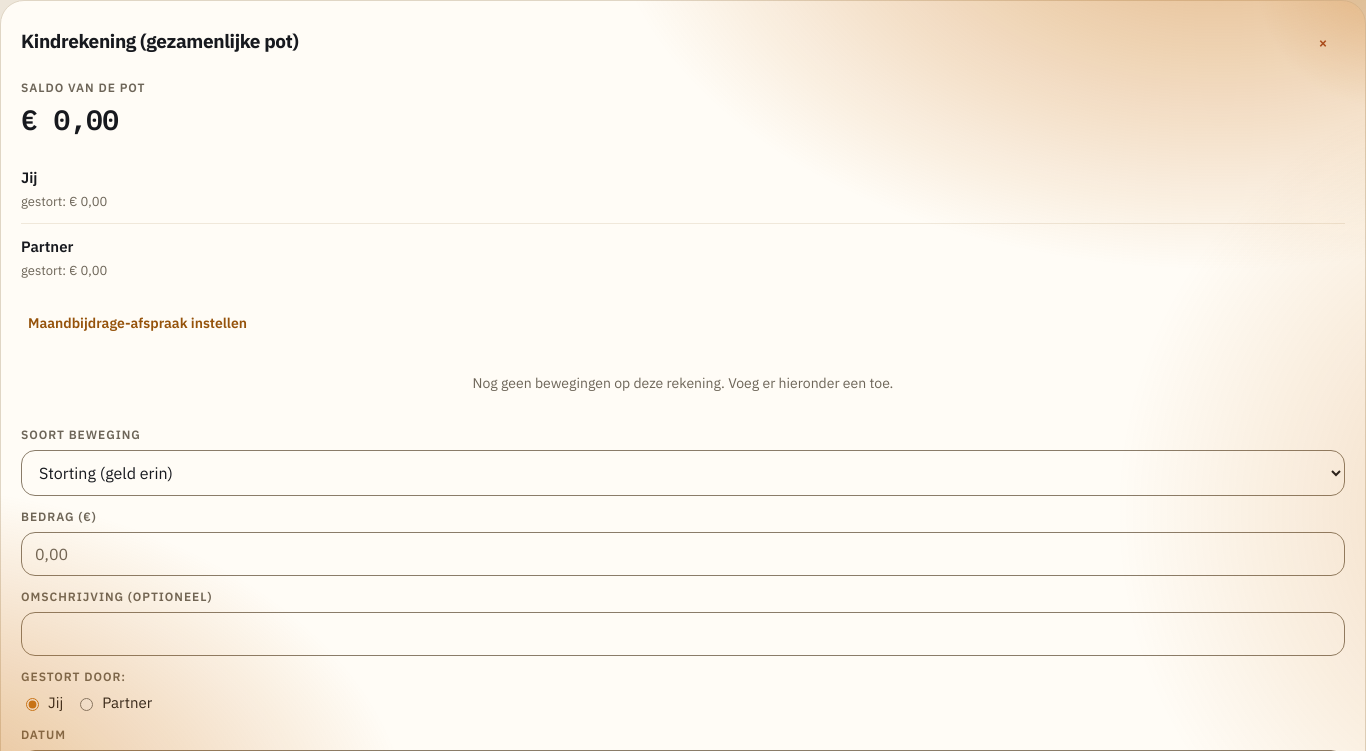
Test: KindrekeningSectie — de indexcijfers › vraagt allebei de cijfers wanneer je er maar één invult
Click the button "Maandbijdrage-afspraak instellen": (137, 323) left=21, top=306, right=254, bottom=341
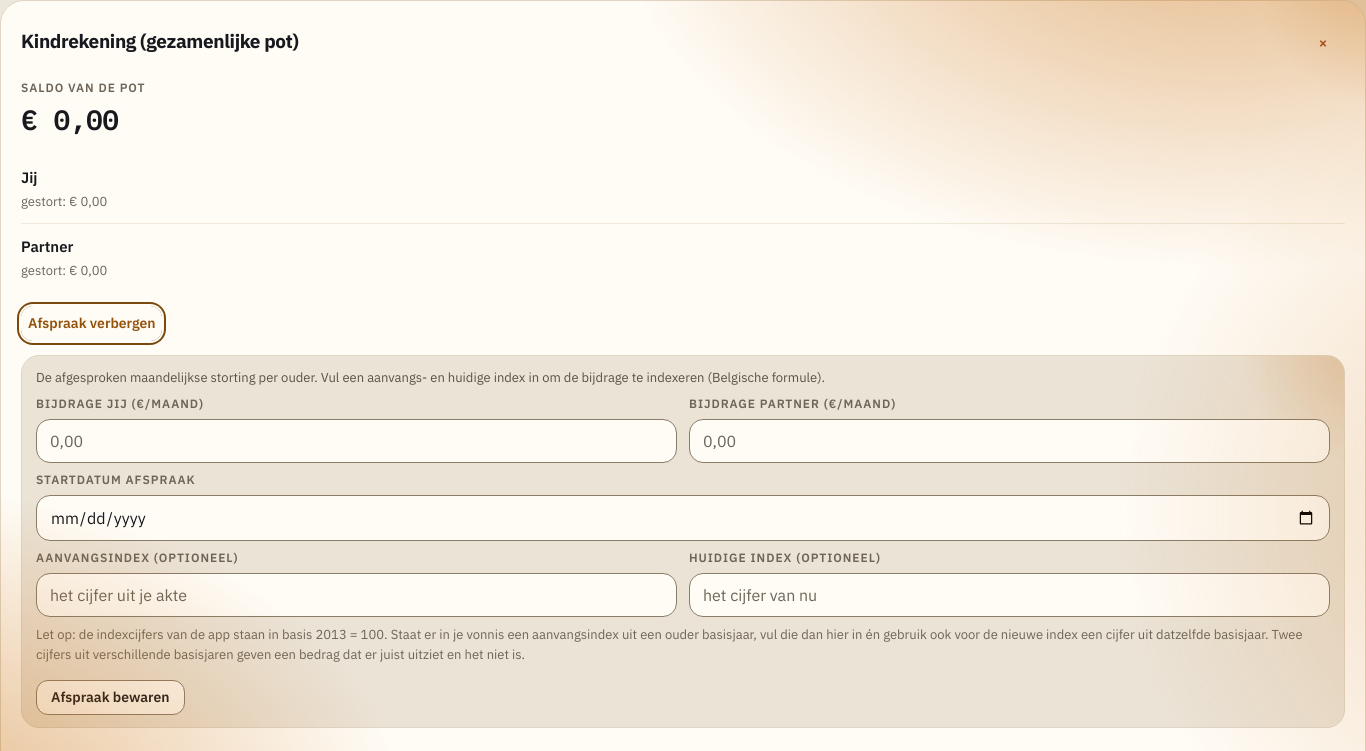
In the field labelled "Aanvangsindex (optioneel)": (356, 595) left=36, top=573, right=677, bottom=617, type "110"
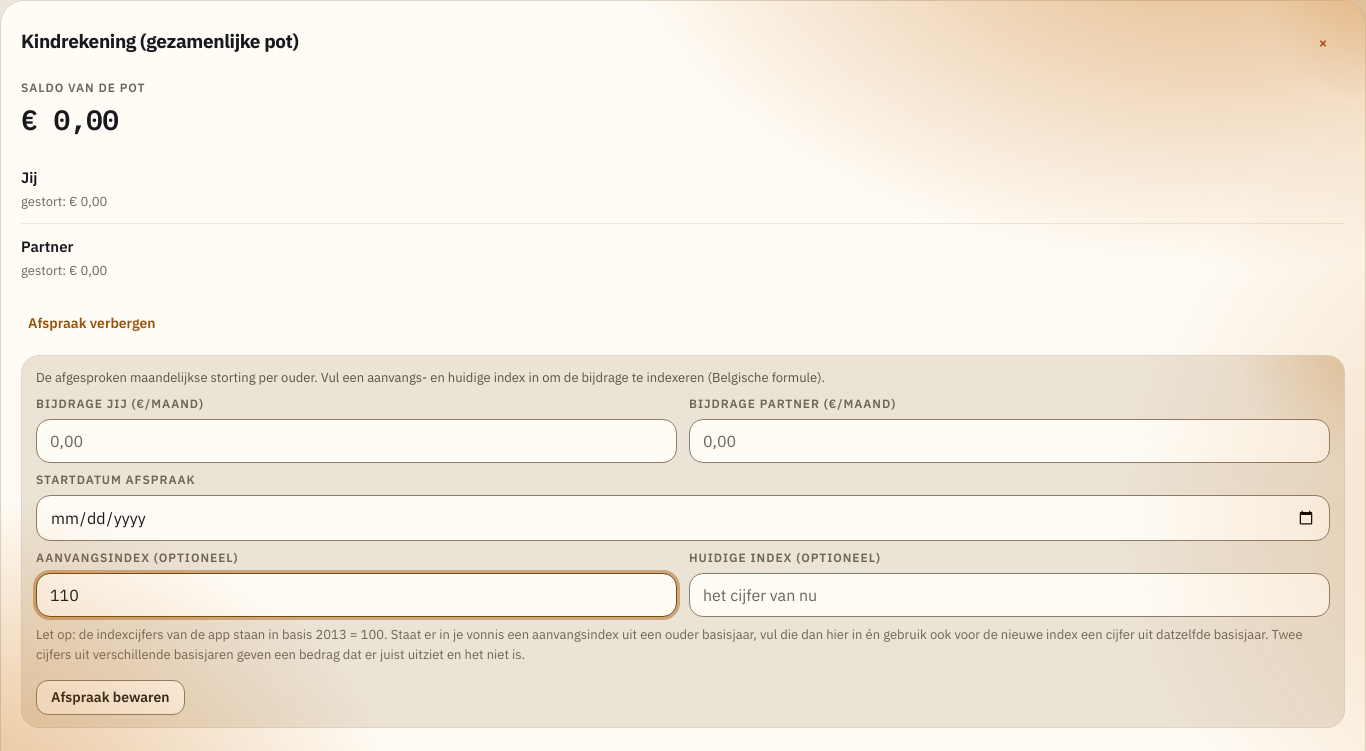
Click the button "Afspraak bewaren": (110, 698) left=36, top=680, right=185, bottom=715
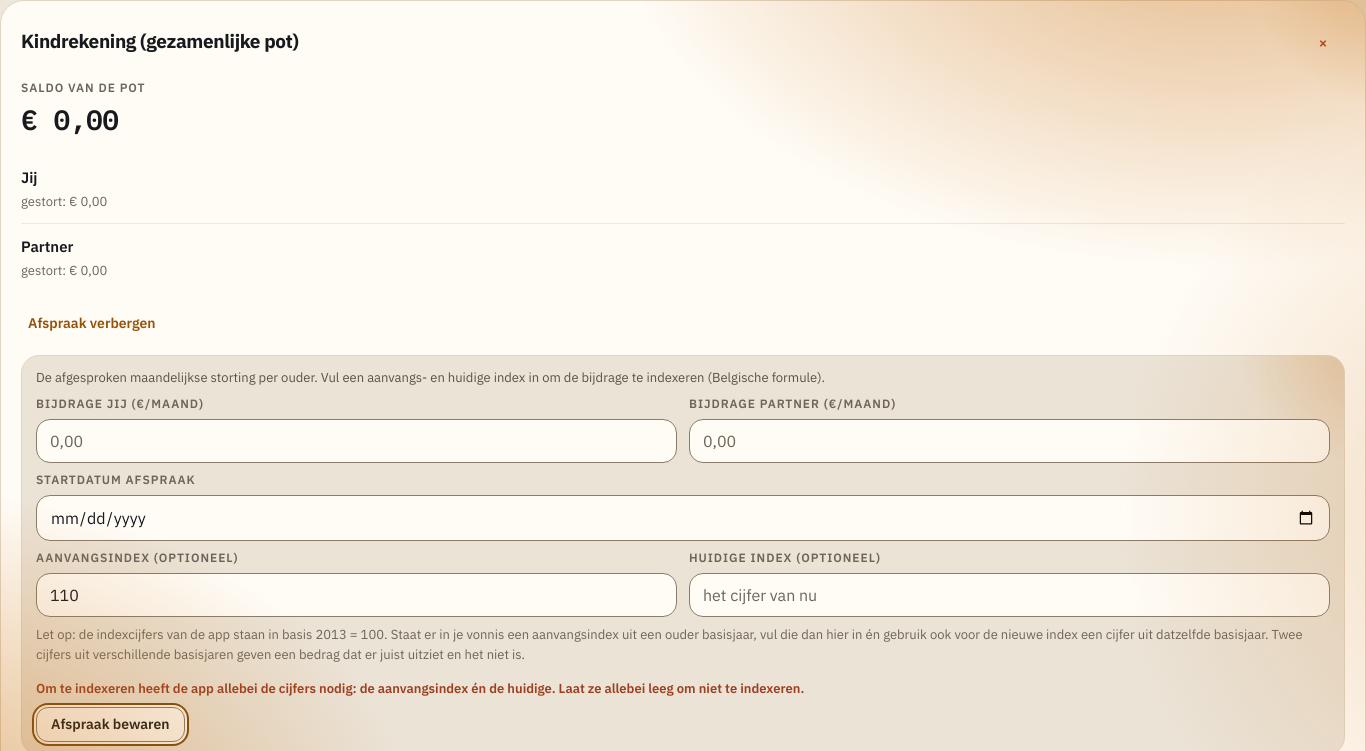
Check: the message shows "allebei de cijfers", box left=36, top=680, right=804, bottom=697
